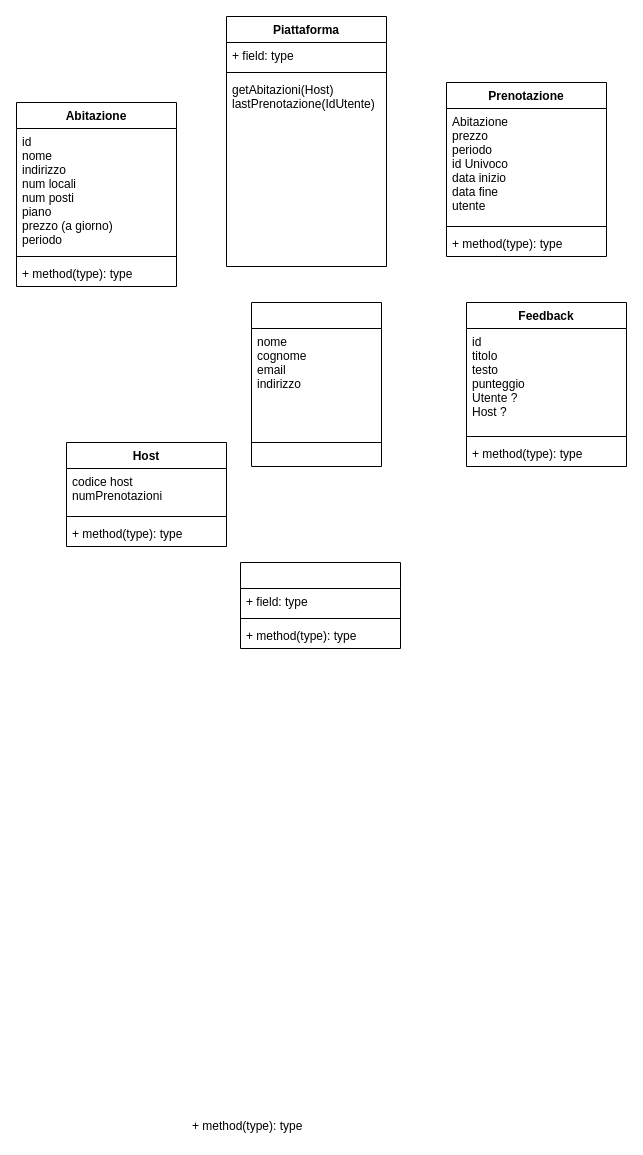
This 643x1155 diagram has some shape labels left out. Here are the shapes that lost their labels. From the top down, the box of each, then its label:
(250, 302, 382, 466): Utente
(240, 562, 400, 648): SuperHost
